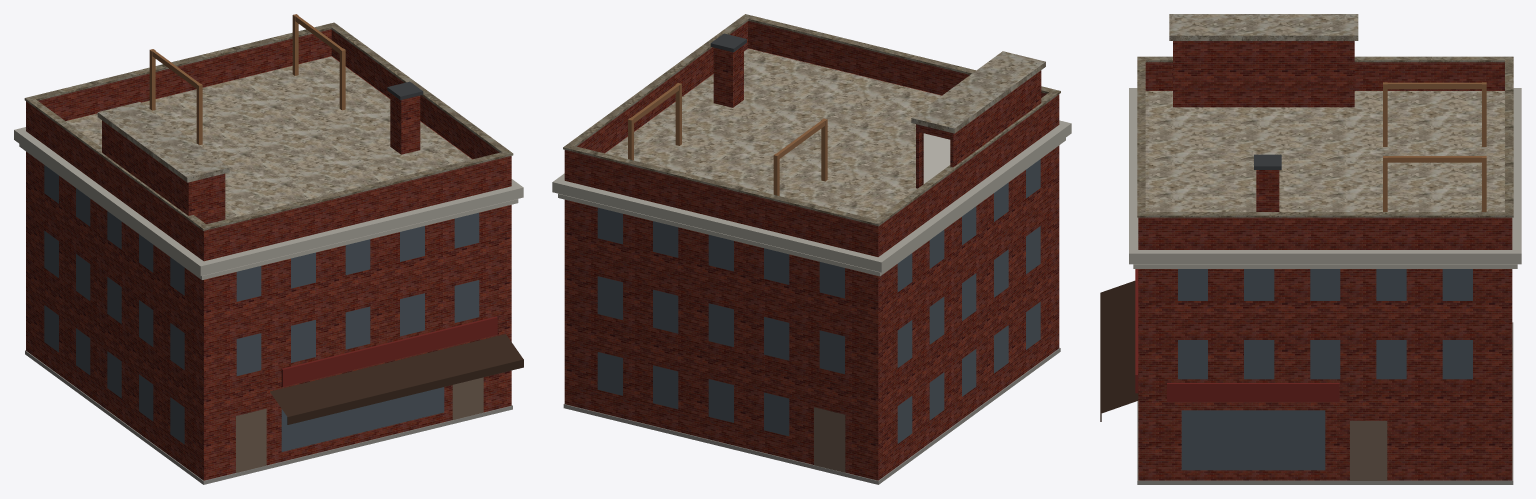
Rendered from mh-corner-tavern.towns-v1.lod1.glb.
The picture shows the model from 3 angles, left to right: view 1: azimuth 30°, elevation 25°; view 2: azimuth 150°, elevation 25°; view 3: azimuth 270°, elevation 25°; orthographic projection. The views are drawn at different scales.
Parts seen in each view (by area): view 1: mh-corner-tavern; view 2: mh-corner-tavern; view 3: mh-corner-tavern.
Part boxes in pixels (x1,y1,x2,y2): mh-corner-tavern: (14, 14, 523, 484); mh-corner-tavern: (552, 14, 1071, 484); mh-corner-tavern: (1100, 14, 1521, 484).
Size of the model in its own units: 13.64 by 11.95 by 14.64.
Materials: 3 (2 with a texture image).
